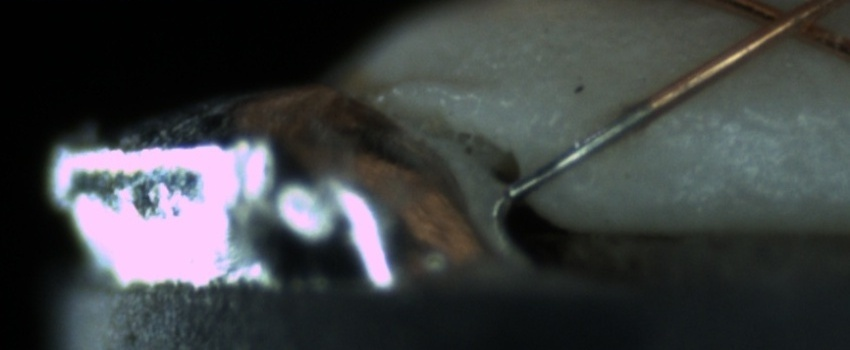CL: (742, 0, 835, 49)
TS: (507, 104, 654, 201)
TTCW: (505, 82, 682, 205)
